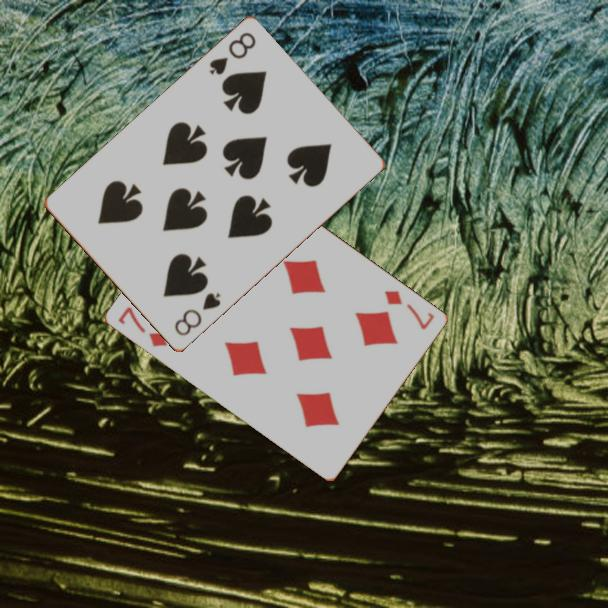d07: (115, 303, 171, 350), (381, 287, 438, 332)
s08: (171, 289, 224, 339), (205, 29, 259, 78)
